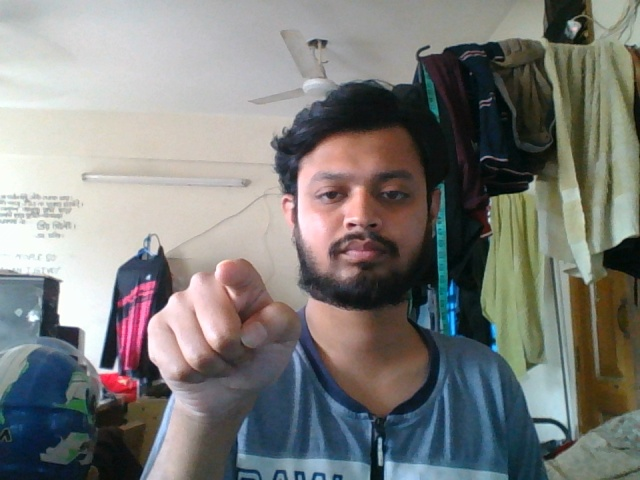tumi: (130, 251, 314, 453)
